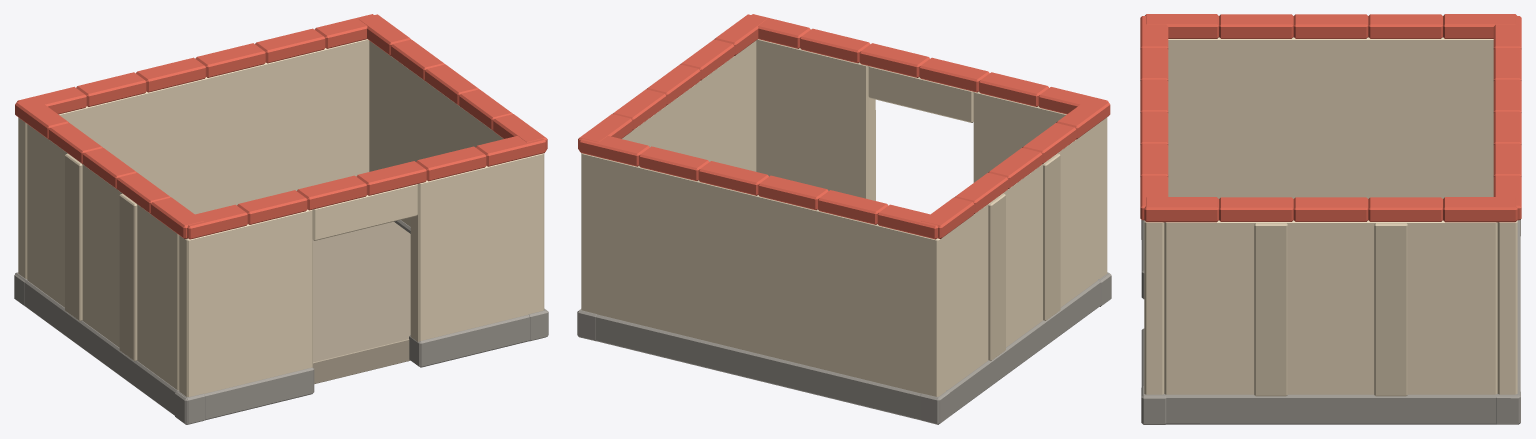
Rendered from cinema_shell.glb.
3 renders of one model, left to right at view 1: azimuth 30°, elevation 25°; view 2: azimuth 150°, elevation 25°; view 3: azimuth 270°, elevation 25°, orthographic. The views are drawn at different scales.
Visible parts, largest first — view 1: cinema_shell; view 2: cinema_shell; view 3: cinema_shell.
Part boxes in pixels (bbox=[...]): cinema_shell: bbox=[14, 14, 548, 424]; cinema_shell: bbox=[577, 14, 1111, 424]; cinema_shell: bbox=[1140, 14, 1521, 424].
Bounding box in the file's own units: 6.92 × 3.61 × 5.72.
